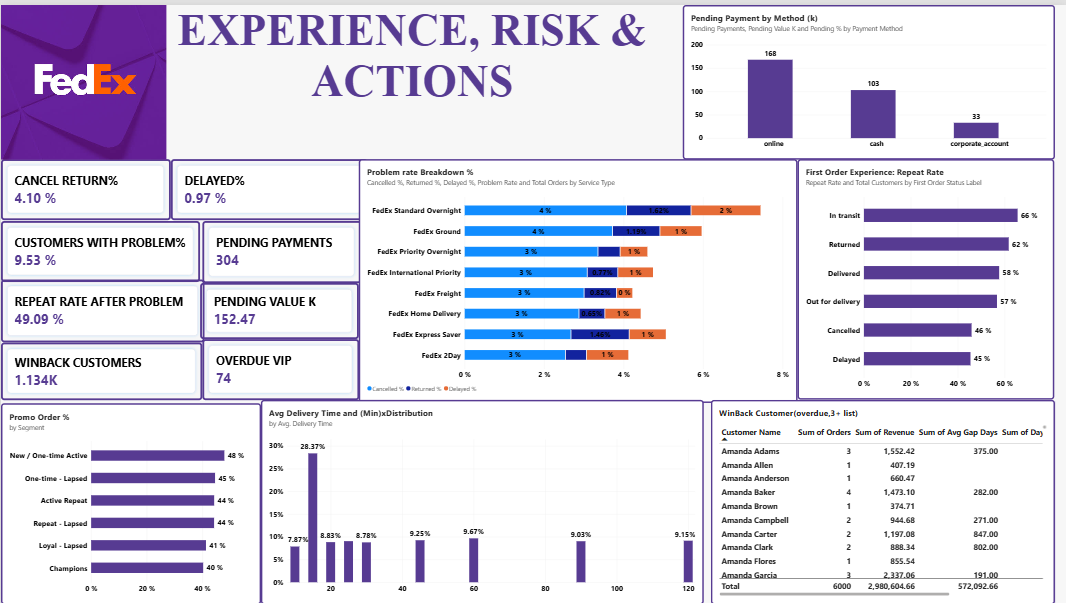

This screenshot's page, from the dashboard's own definition file:
{"tool":"powerbi","page":{"name":"EXPERIENCE ,RISK & ACTIONS","canvas":[2560,1440],"ordinal":2},"visuals":[{"type":"cardVisual","fields":{"Data":["Customers.Cancel Return %"]},"box":[0,371.3,407.9,146.4],"z":0},{"type":"cardVisual","fields":{"Data":["Customers.Delayed %"]},"box":[407.9,371.3,473.3,146.4],"z":1000},{"type":"cardVisual","fields":{"Data":["Customers.Customers with Problem %"]},"box":[10.5,517.8,478.6,146.4],"z":2000},{"type":"cardVisual","fields":{"Data":["Customers.Repeat Rate After Problem1"]},"box":[10.5,664.2,489,138.6],"z":3000},{"type":"cardVisual","fields":{"Data":["Customers.Pending Payments"]},"box":[483.8,517.8,381.8,149.1],"z":4000},{"type":"cardVisual","fields":{"Data":["Customers.Pending Value K"]},"box":[499.5,666.8,360.9,136],"z":5000},{"type":"cardVisual","fields":{"Data":["Customers.Overdue VIP Count"]},"box":[483.8,802.8,376.6,146.4],"z":6000},{"type":"cardVisual","fields":{"Data":["Customers.Winback Customers"]},"box":[0,810.7,483.8,138.6],"z":7000},{"type":"clusteredBarChart","title":"First Order Experience: Repeat Rate","fields":{"Category":["Customers.First Order Status Label"],"Y":["Customers.Repeat Rate"]},"box":[1914.2,371.3,617.2,577.9],"z":8000},{"type":"barChart","title":"Problem rate Breakdown %","fields":{"Category":["Shipments.Service Type"],"Y":["Customers.Cancelled %","Customers.Returned %","Customers.Delayed %"]},"box":[860.4,371.3,1053.9,585.8],"z":9000},{"type":"clusteredColumnChart","title":"Pending Payment by Method (k)","fields":{"Category":["Shipments.Payment Method"],"Y":["Customers.Pending Payments"]},"box":[1637,0,894.4,371.3],"z":10000},{"type":"clusteredBarChart","fields":{"Category":["Customers.Segment"],"Y":["Shipments.Promo Order %"]},"box":[0,957.1,625,483.8],"z":11000},{"type":"clusteredColumnChart","fields":{"Category":["Shipments.Avg. Delivery Time"],"Y":["Customers.Total Orders"]},"box":[625,949.3,1064.3,491.6],"z":12000},{"type":"tableEx","title":"WinBack Customer(overdue,3+ list)","fields":{"Values":["Customers.Customer Name","Sum(Customers.Orders)","Sum(Customers.Revenue)","Sum(Customers.Avg Gap Days)","Sum(Customers.Days Since Last)","Sum(Customers.Overdue Ratio)"]},"box":[1705,949.3,826.4,491.6],"z":13000},{"type":"textbox","box":[407.9,0,1161.1,371.3],"z":14000},{"type":"image","box":[0,0,397.5,371.3],"z":15000}]}

Visuals, with their boxes in screenshot pixels (x1, y1, x2, y2), scaled from the page's 2560x1440 canvas onto the 1066x603 screenshot:
cardVisual - Customers.Cancel Return %: bbox=[0, 155, 170, 217]
cardVisual - Customers.Delayed %: bbox=[170, 155, 367, 217]
cardVisual - Customers.Customers with Problem %: bbox=[4, 217, 204, 278]
cardVisual - Customers.Repeat Rate After Problem1: bbox=[4, 278, 208, 336]
cardVisual - Customers.Pending Payments: bbox=[201, 217, 360, 279]
cardVisual - Customers.Pending Value K: bbox=[208, 279, 358, 336]
cardVisual - Customers.Overdue VIP Count: bbox=[201, 336, 358, 397]
cardVisual - Customers.Winback Customers: bbox=[0, 339, 201, 398]
"First Order Experience: Repeat Rate" clusteredBarChart: bbox=[797, 155, 1054, 397]
"Problem rate Breakdown %" barChart: bbox=[358, 155, 797, 401]
"Pending Payment by Method (k)" clusteredColumnChart: bbox=[682, 0, 1054, 155]
clusteredBarChart - Customers.Segment x Shipments.Promo Order %: bbox=[0, 401, 260, 602]
clusteredColumnChart - Shipments.Avg. Delivery Time x Customers.Total Orders: bbox=[260, 398, 703, 602]
"WinBack Customer(overdue,3+ list)" tableEx: bbox=[710, 398, 1054, 602]
textbox: bbox=[170, 0, 653, 155]
image: bbox=[0, 0, 166, 155]
